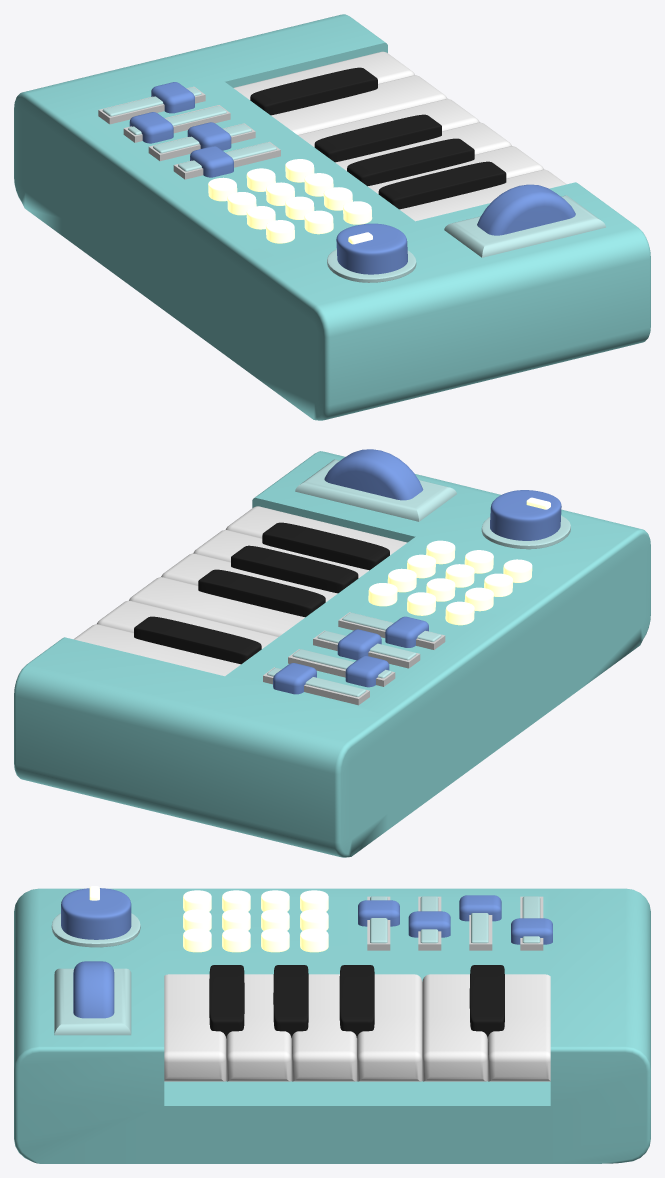
Rendered from Synth.gltf.
3 renders of one model, top to bottom at view 1: azimuth 30°, elevation 25°; view 2: azimuth 150°, elevation 25°; view 3: azimuth 270°, elevation 25°, orthographic.
Parts seen in each view (by area): view 1: Cube, Cube.001, Cube.005, Cube.002, Cylinder, Cube.007, Cube.008, Cube.010, Cube.009, Cube.003, Cube.006, Plane (+8 smaller); view 2: Cube, Cube.001, Cube.005, Cylinder, Cube.002, Cube.010, Cube.009, Cube.007, Cube.008, Cube.003, Cube.006, Plane (+8 smaller); view 3: Cube, Cube.001, Cube.005, Cube.002, Cube.003, Cube.007, Cube.008, Cube.009, Cube.010, Cylinder, Cube.006, Plane (+8 smaller).
Part boxes in pixels (x1,y1,x2,y2): Cube: (14, 14, 650, 420); Cube.001: (233, 51, 566, 221); Cube.005: (208, 159, 372, 243); Cube.002: (444, 195, 605, 257); Cylinder: (477, 184, 575, 235); Cube.007: (378, 161, 506, 209); Cube.008: (347, 138, 474, 186); Cube.010: (250, 67, 377, 115); Cube.009: (314, 114, 441, 162); Cube.003: (336, 223, 407, 274); Cube.006: (98, 86, 280, 179); Plane: (327, 249, 416, 282); Cube: (14, 451, 650, 857); Cube.001: (74, 506, 407, 676); Cube.005: (368, 540, 532, 625); Cylinder: (324, 449, 423, 500); Cube.002: (295, 459, 456, 521); Cube.010: (134, 616, 261, 664); Cube.009: (198, 569, 325, 617); Cube.007: (262, 522, 389, 570); Cube.008: (231, 545, 358, 593); Cube.003: (490, 490, 561, 540); Cube.006: (263, 612, 445, 705); Plane: (481, 515, 570, 549); Cube: (14, 888, 650, 1163); Cube.001: (164, 974, 550, 1081); Cube.005: (183, 890, 328, 952); Cube.002: (54, 968, 131, 1035); Cube.003: (61, 888, 131, 939); Cube.007: (209, 965, 244, 1038); Cube.008: (273, 965, 308, 1037); Cube.009: (339, 965, 374, 1037); Cube.010: (469, 965, 504, 1038); Cylinder: (73, 961, 114, 1018); Cube.006: (367, 896, 543, 950); Plane: (51, 913, 140, 947).
Size of the model in its own units: 0.6 by 0.2673 by 1.
